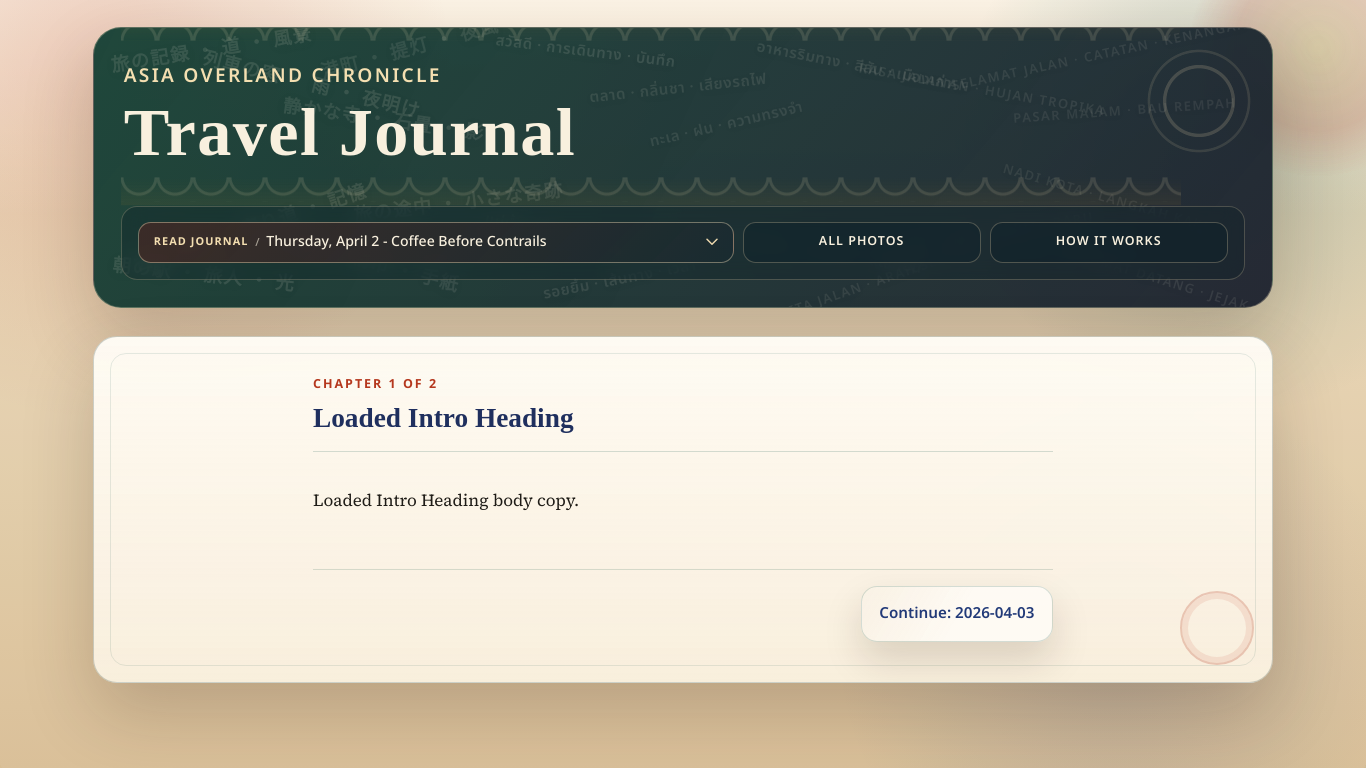
Test: App › uses manifest displaySlug labels in the chapter dropdown on first load
Check: the heading "Loaded Intro Heading" is shown, box [313,403,574,433]
Click the button "Read Journal / Thursday, April 2 - Coffee Before Contrails" at (436, 242), box [138,222,734,263]
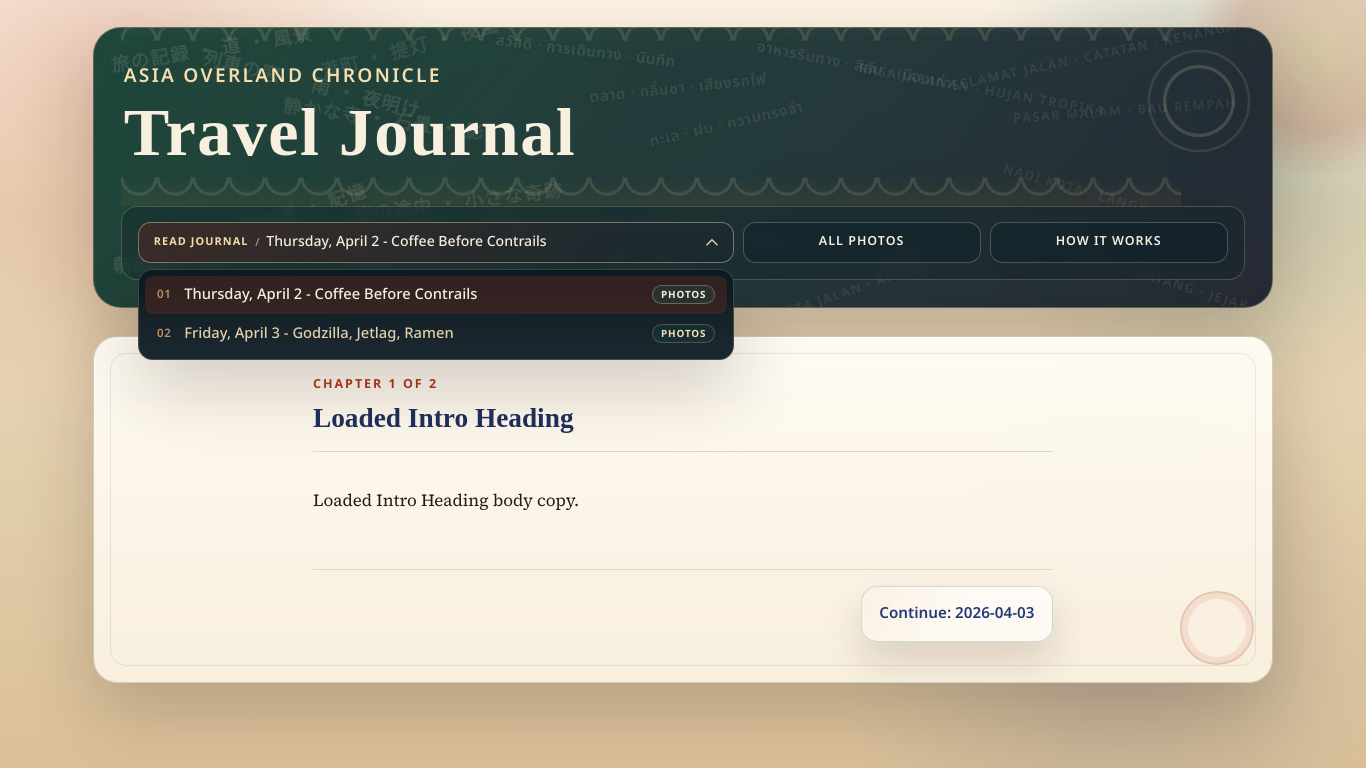
Check: the text "Friday, April 3 - Godzilla, Jetlag, Ramen" is shown, box [184,322,454,345]
